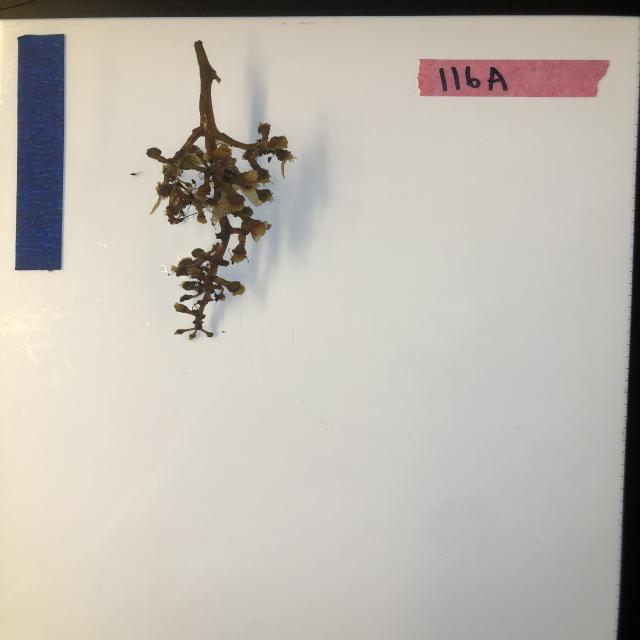index: (417, 57, 611, 99)
measure_label: (15, 31, 68, 272)
rachis_cluster: (143, 37, 298, 340)
